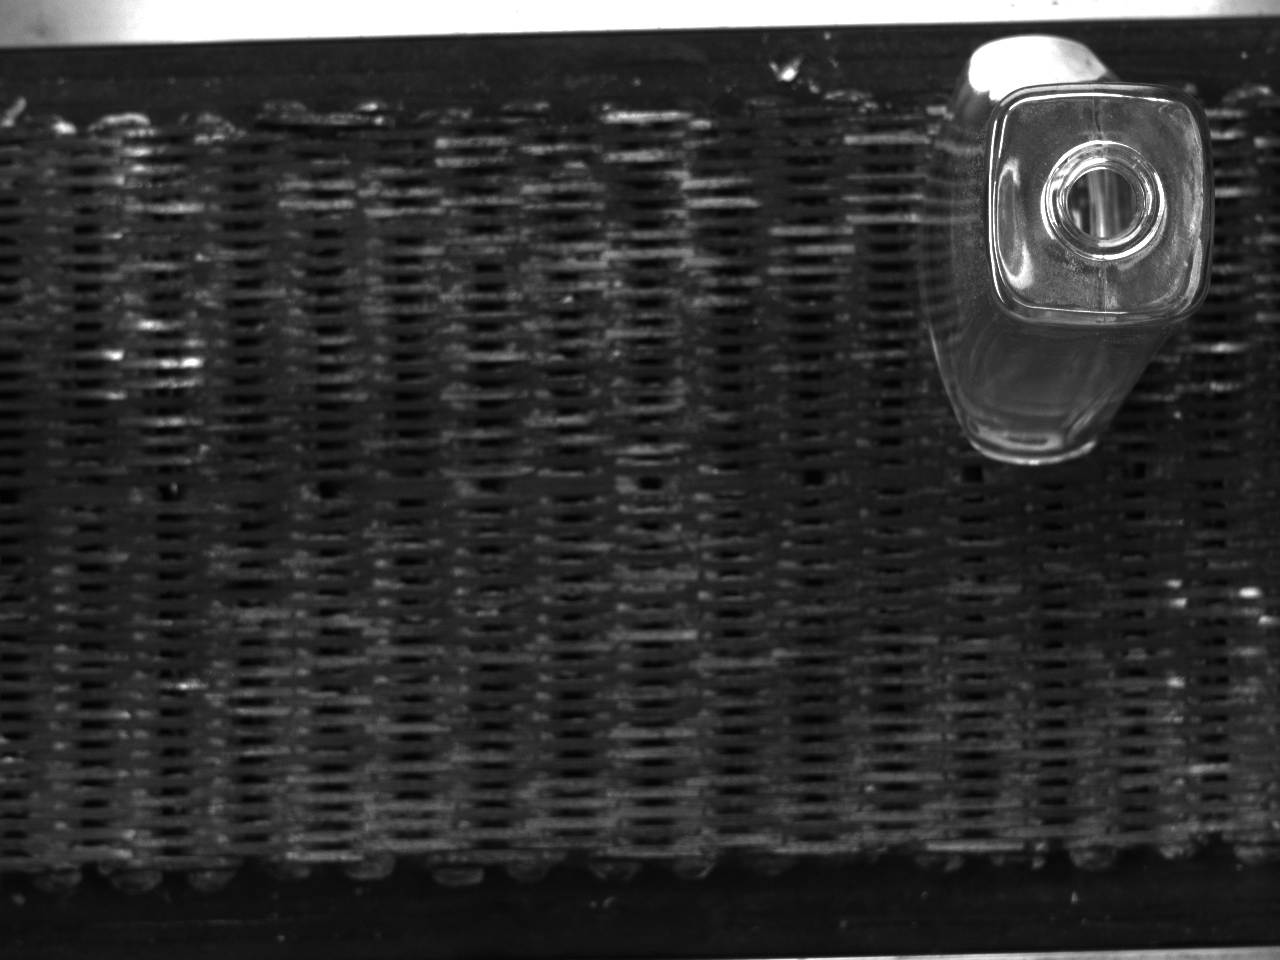bottleneck: (1042, 139, 1167, 261)
